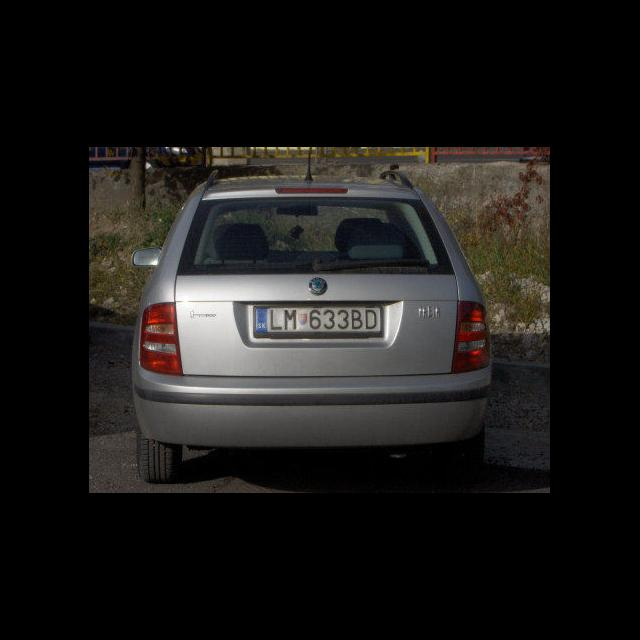Plate: (256, 307, 382, 336)
